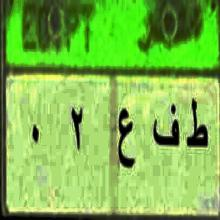0: (29, 110, 42, 157)
2: (70, 102, 86, 162)
Taa: (185, 94, 209, 158)
ain: (118, 101, 136, 178)
faa: (150, 100, 179, 154)
